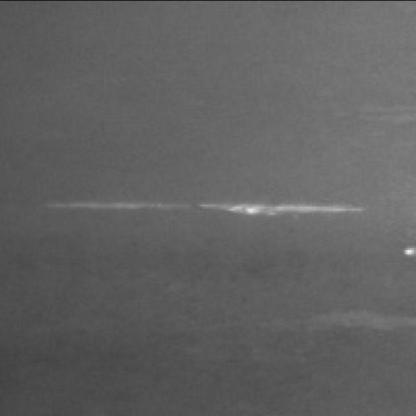scratches: (48, 198, 364, 226)
